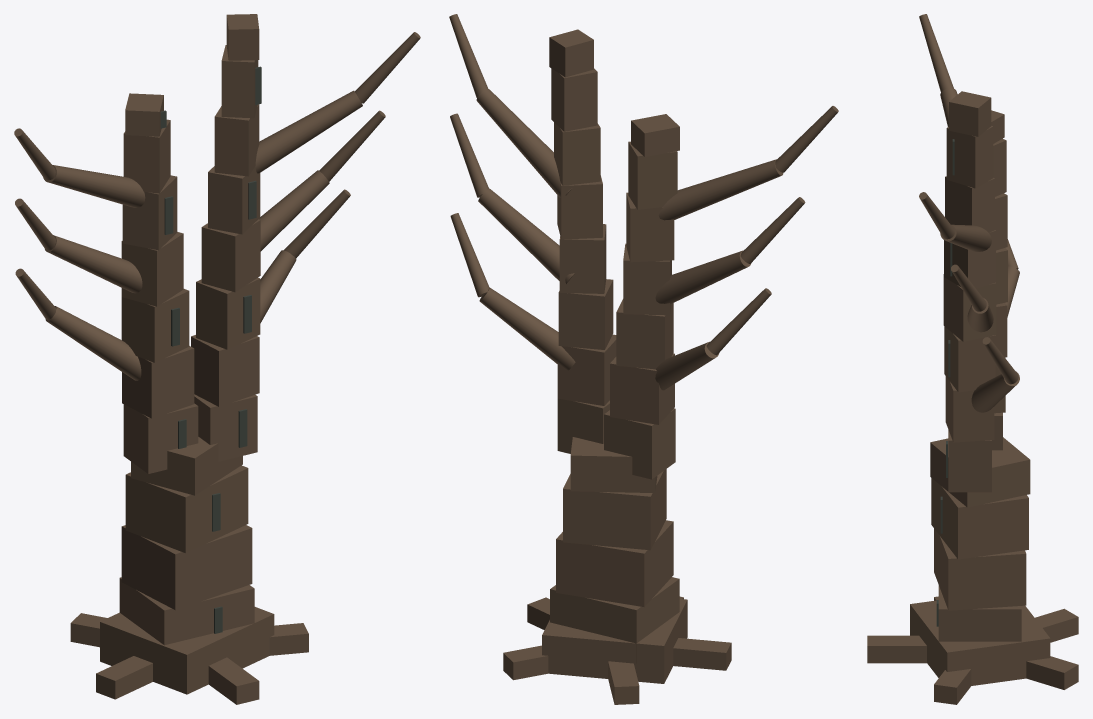
The model's file is FSA_ENV_Outdoor_Tree_04_Twin.glb.
3 renders of one model, left to right at view 1: azimuth 30°, elevation 25°; view 2: azimuth 150°, elevation 25°; view 3: azimuth 270°, elevation 25°, orthographic. The views are drawn at different scales.
Parts seen in each view (by area): view 1: Base1, RootCore, Base2, Base0, East1, West1, West0, West2, East2, East3, Base3, West3 (+24 smaller); view 2: Base1, RootCore, Base2, Base0, West0, Base3, East2, West1, West2, East1, Branch-1_2, East3 (+23 smaller); view 3: RootCore, Base2, Base1, Base3, Base0, East6, East2, East0, East5, East1, East3, East4 (+19 smaller).
Part boxes in pixels (bbox=[...]): Base1: bbox=[121, 525, 252, 610]; RootCore: bbox=[100, 607, 274, 694]; Base2: bbox=[125, 465, 248, 553]; Base0: bbox=[119, 577, 254, 645]; East1: bbox=[191, 335, 259, 406]; West1: bbox=[122, 346, 194, 418]; West0: bbox=[123, 403, 198, 473]; West2: bbox=[121, 289, 189, 362]; East2: bbox=[196, 277, 260, 349]; East3: bbox=[201, 219, 260, 292]; Base3: bbox=[131, 437, 242, 495]; West3: bbox=[121, 232, 183, 306]; Base1: bbox=[556, 520, 673, 607]; RootCore: bbox=[542, 599, 687, 683]; Base2: bbox=[563, 469, 666, 550]; Base0: bbox=[550, 577, 679, 663]; West0: bbox=[604, 408, 675, 479]; Base3: bbox=[570, 437, 657, 492]; East2: bbox=[558, 279, 613, 349]; West1: bbox=[610, 353, 674, 424]; West2: bbox=[616, 299, 673, 369]; East1: bbox=[557, 334, 616, 405]; Branch-1_2: bbox=[658, 159, 783, 220]; East3: bbox=[559, 224, 606, 293]; RootCore: bbox=[910, 600, 1050, 685]; Base2: bbox=[931, 478, 1028, 559]; Base1: bbox=[934, 528, 1026, 610]; Base3: bbox=[930, 437, 1030, 507]; Base0: bbox=[938, 585, 1021, 641]; East6: bbox=[946, 126, 993, 188]; East2: bbox=[944, 326, 995, 392]; East0: bbox=[948, 430, 991, 492]; East5: bbox=[945, 176, 994, 232]; East1: bbox=[945, 376, 994, 442]; East3: bbox=[943, 274, 996, 341]; East4: bbox=[944, 230, 995, 288].
Size of the model in its own units: 3.41 by 5.05 by 1.66.
